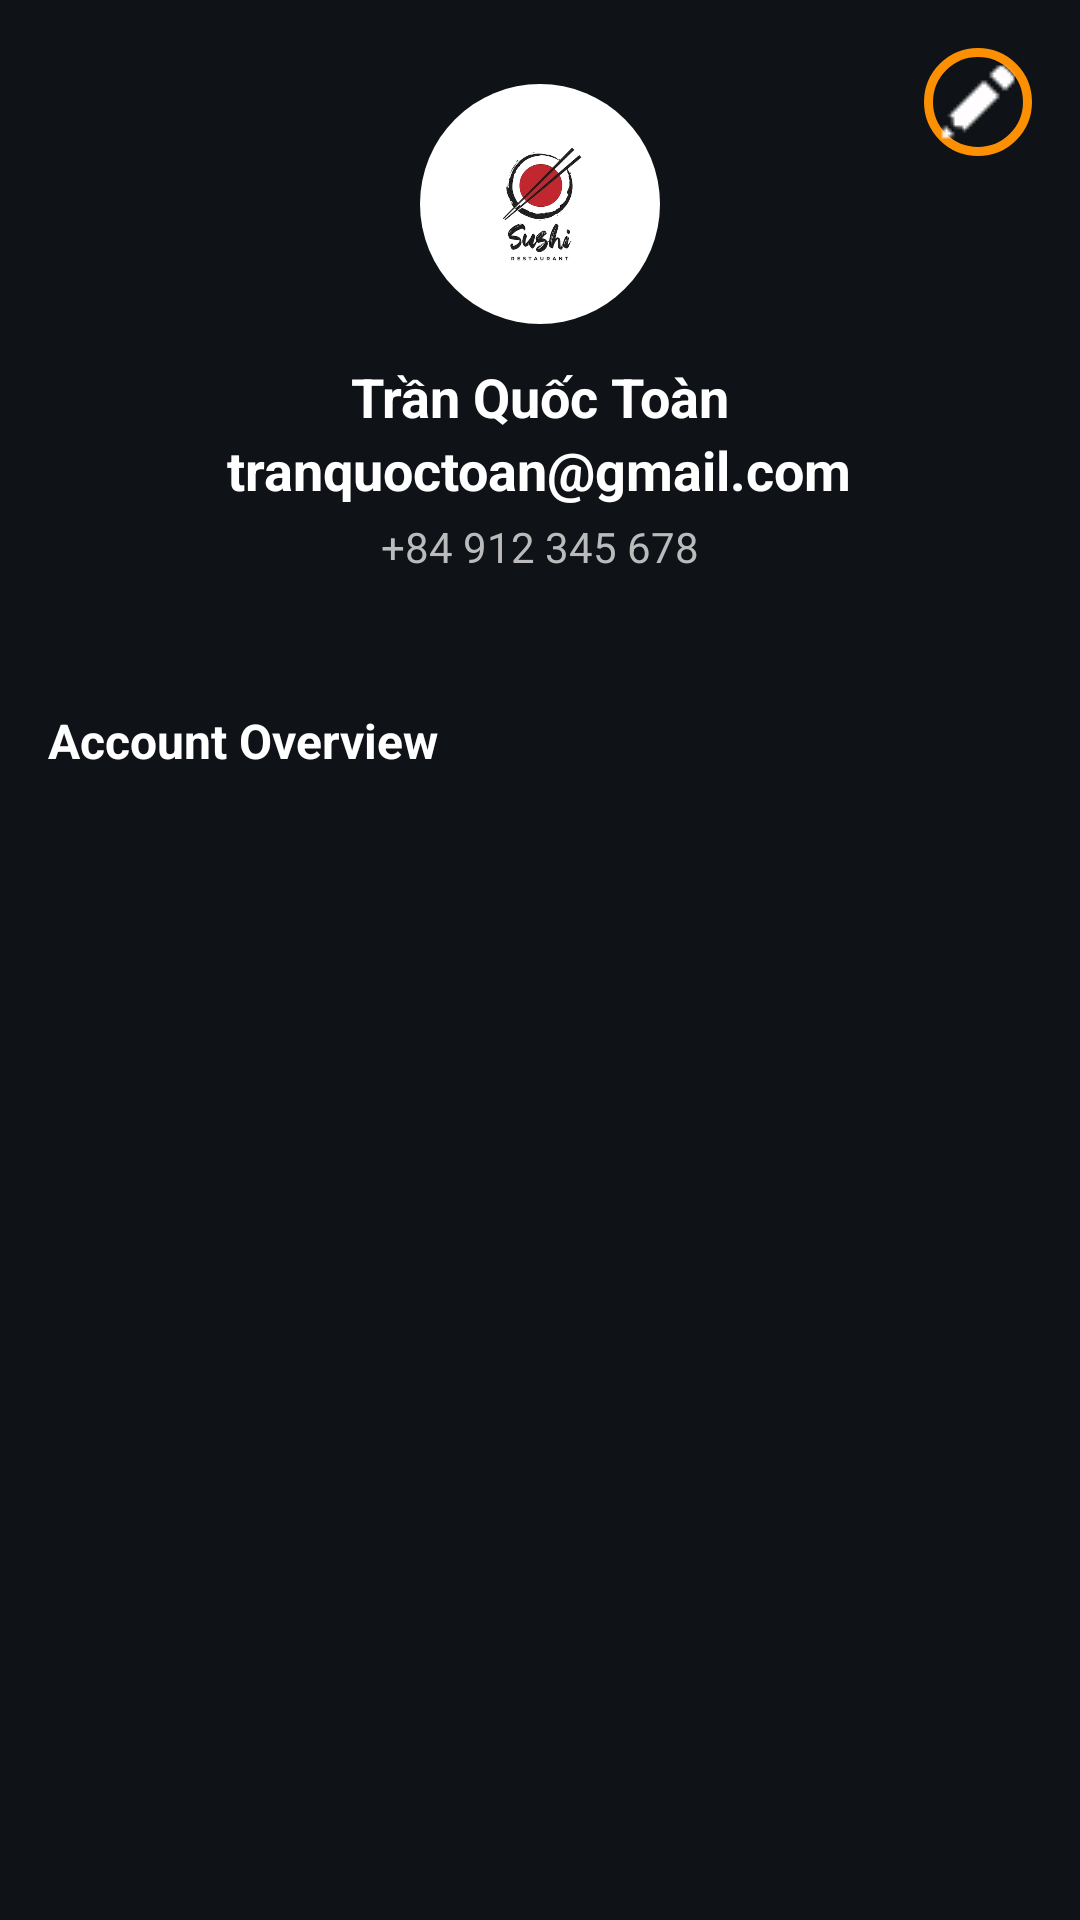

Point at icon controls on the screen. Image size 1080w x 1920h, points as (x,y).
Chỉnh sửa: (978,102)
